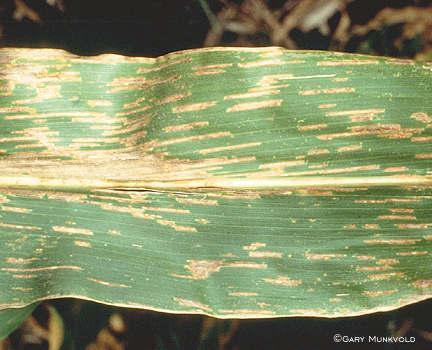Corn leaf blight: (2, 46, 431, 324)
